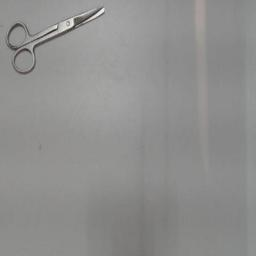Dressing Scissors: (0, 2, 112, 80)
